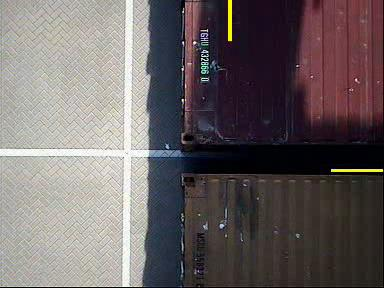groundmarker_2: (137, 122, 192, 167)
